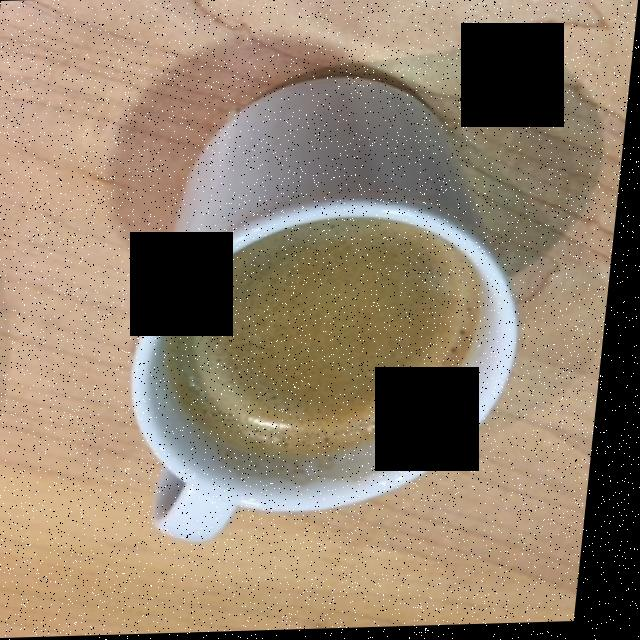coffee-with-caffeine: (184, 225, 483, 443)
